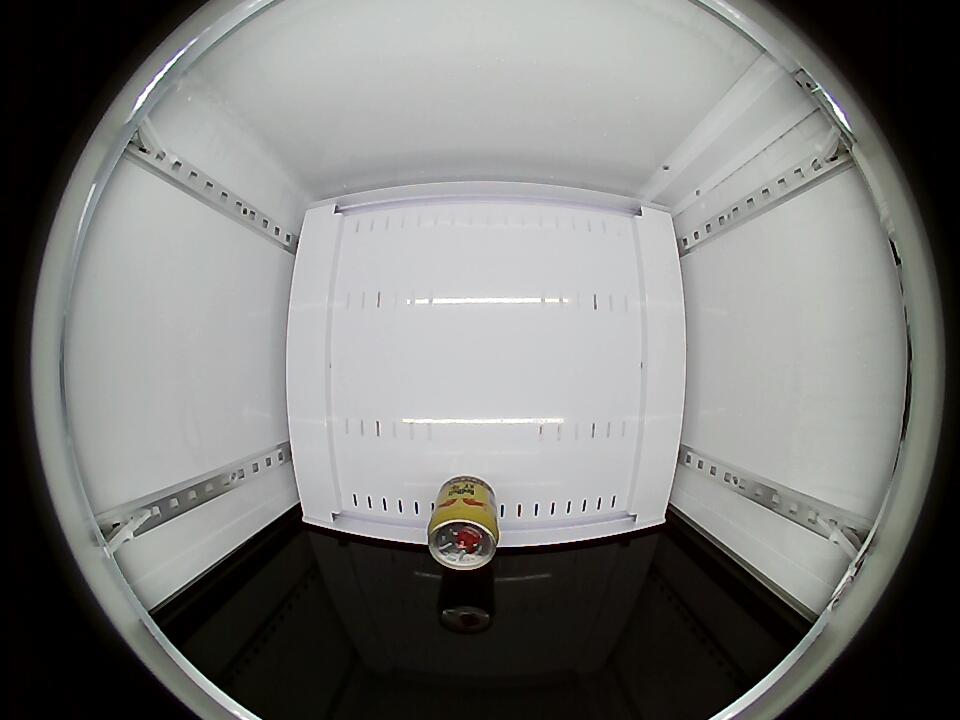hongniu2: (427, 502, 500, 571)
